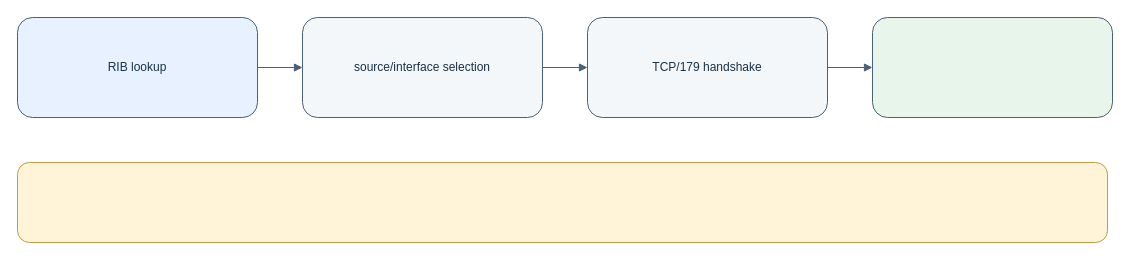
Some shapes in this 1130 by 260 pixel diagram are drawn without their labels. Each missing label, with the box of its shape:
BGP OPEN/capabilities → KEEPALIVE → Established: (872, 16, 1112, 118)
route lookup → TCP handshake → BGP OPEN; route/filter/source/VPN branches: (16, 162, 1108, 242)
